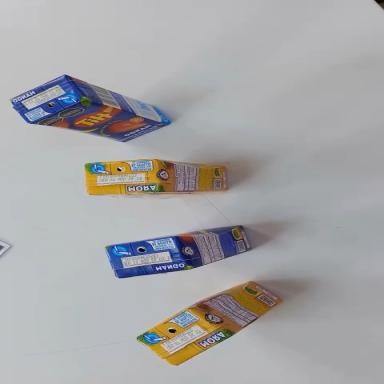HIT-MANGO: (5, 60, 174, 167), (105, 223, 253, 282)
HIT-MORA: (136, 268, 285, 376), (84, 156, 228, 197)
cara_F: (30, 86, 167, 162)
